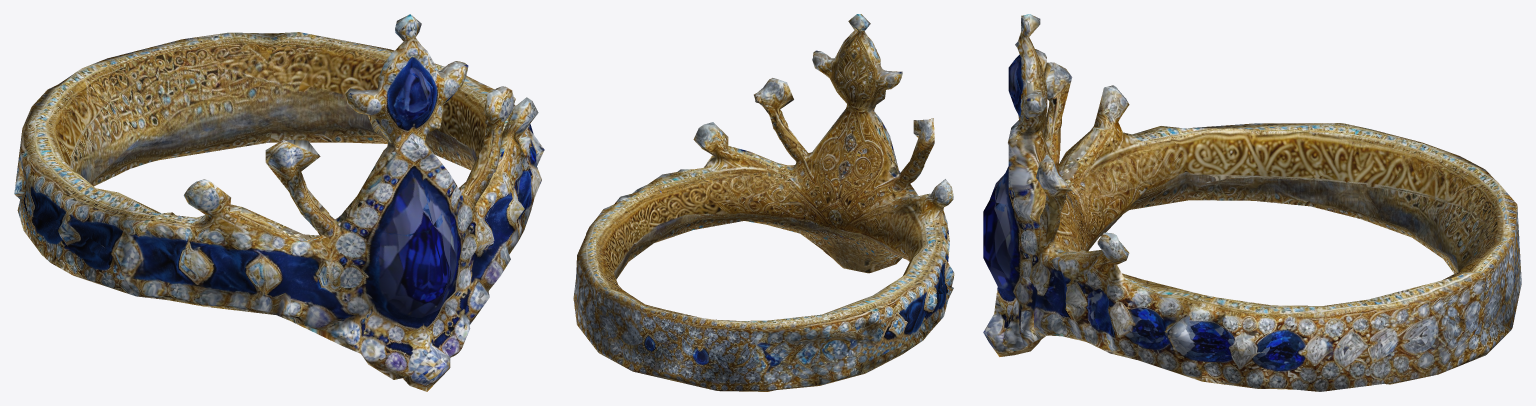
File: 3D-royal-sapphire-crown.glb
3 renders of one model, left to right at view 1: azimuth 30°, elevation 25°; view 2: azimuth 150°, elevation 25°; view 3: azimuth 270°, elevation 25°, orthographic. The views are drawn at different scales.
Parts seen in each view (by area): view 1: Mesh_0_Material_0_0; view 2: Mesh_0_Material_0_0; view 3: Mesh_0_Material_0_0.
Part boxes in pixels (<box>): Mesh_0_Material_0_0: <box>14,14,544,391</box>; Mesh_0_Material_0_0: <box>573,14,954,391</box>; Mesh_0_Material_0_0: <box>983,14,1521,391</box>.
Bounding box in the file's own units: 1.1 × 0.8376 × 1.19.
1 material, 1 textured.
